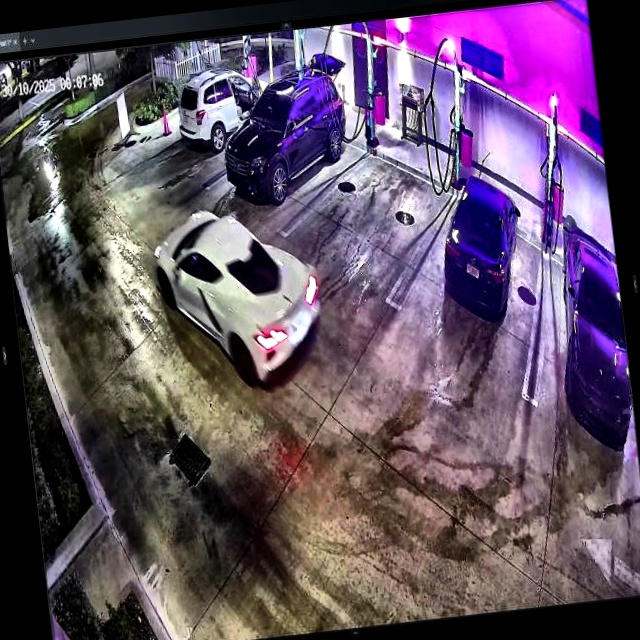Car: (149, 199, 328, 395), (215, 66, 356, 208), (432, 170, 532, 324), (173, 62, 276, 151)
